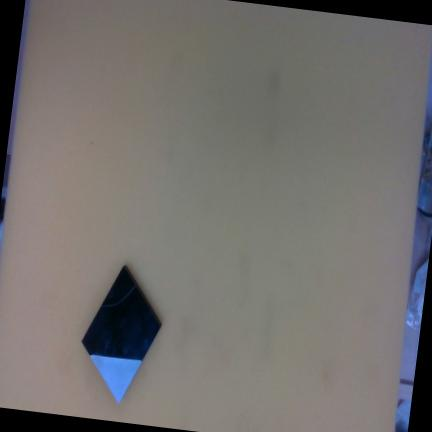tile: (63, 264, 178, 403)
